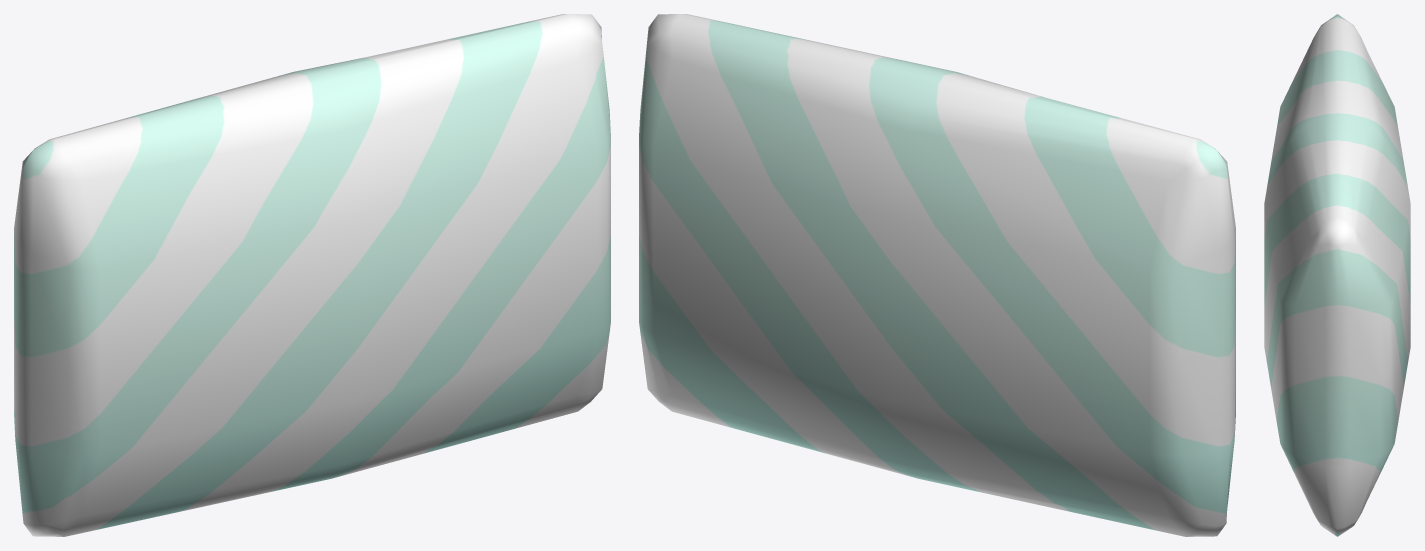
File: Pillow_Minty.fbx
The picture shows the model from 3 angles, left to right: view 1: azimuth 30°, elevation 25°; view 2: azimuth 150°, elevation 25°; view 3: azimuth 270°, elevation 25°; orthographic projection. The views are drawn at different scales.
Parts seen in each view (by area): view 1: Pillow_Minty; view 2: Pillow_Minty; view 3: Pillow_Minty.
Part boxes in pixels (x1=…): Pillow_Minty: x1=14, y1=14, x2=610, y2=536; Pillow_Minty: x1=639, y1=14, x2=1235, y2=536; Pillow_Minty: x1=1264, y1=14, x2=1410, y2=536.
Size of the model in its own units: 981 by 646 by 267.
Materials: 1 (1 with a texture image).
